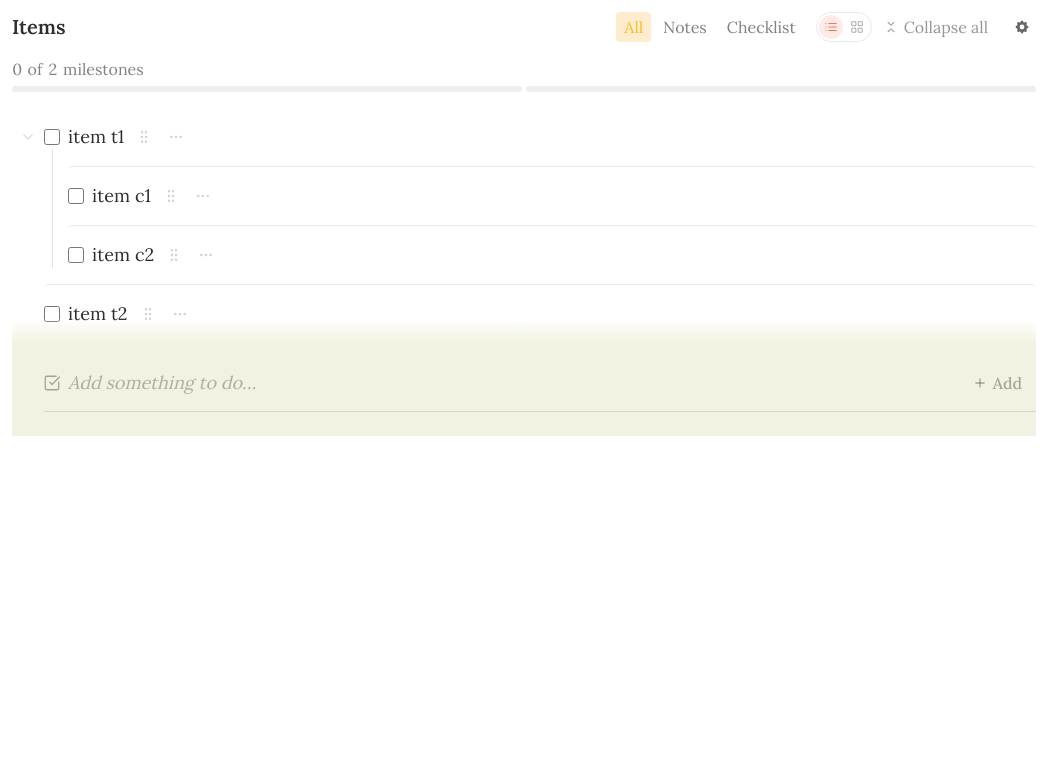
Todo duplicate from a list row (FS-F6AEE R14–R18) › should put a duplicated item and its steps right after the source family, without a refetch
expect the text "item t1" is shown: met, box [68, 124, 124, 150]
Click the button named "Actions for item t1" at (176,137), box [164, 125, 188, 149]
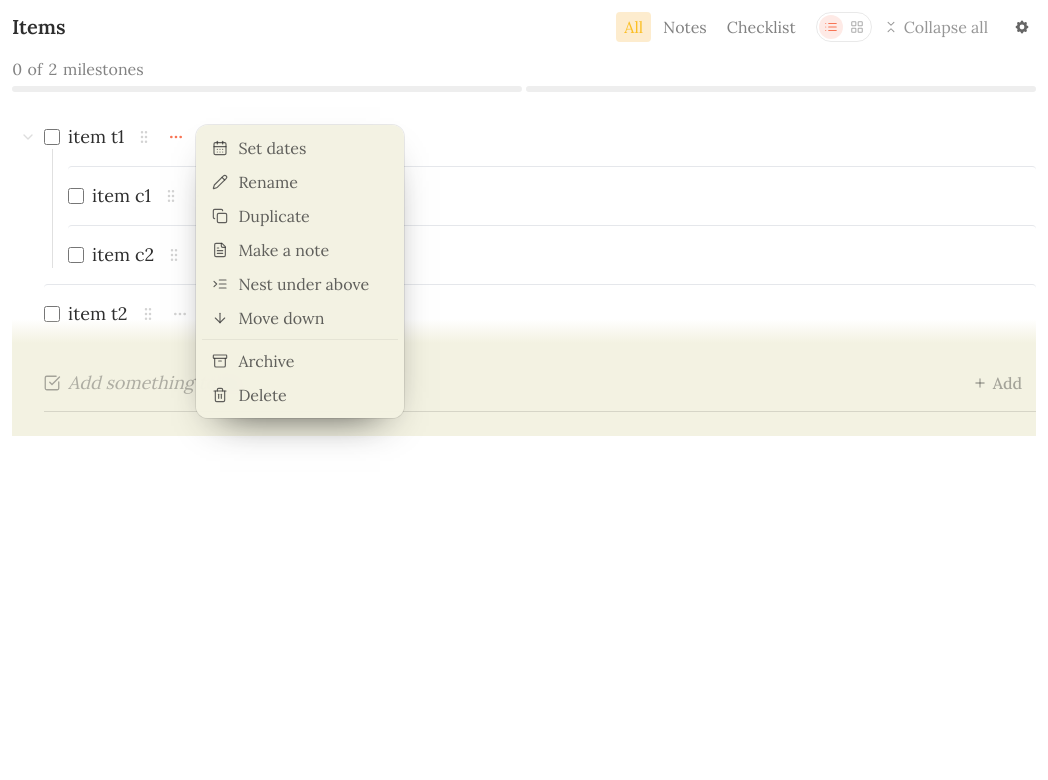
Click the menu item "Duplicate" at (300,216), box [202, 199, 398, 233]
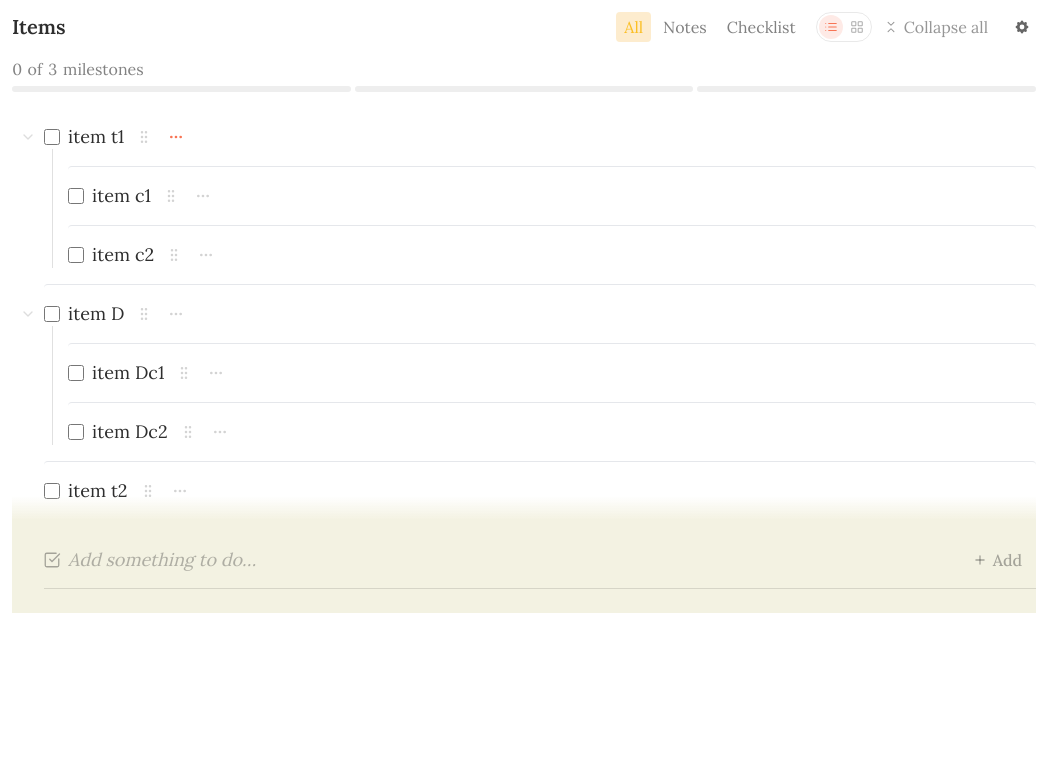
expect the text "item D" is shown: met, box [68, 301, 124, 327]
